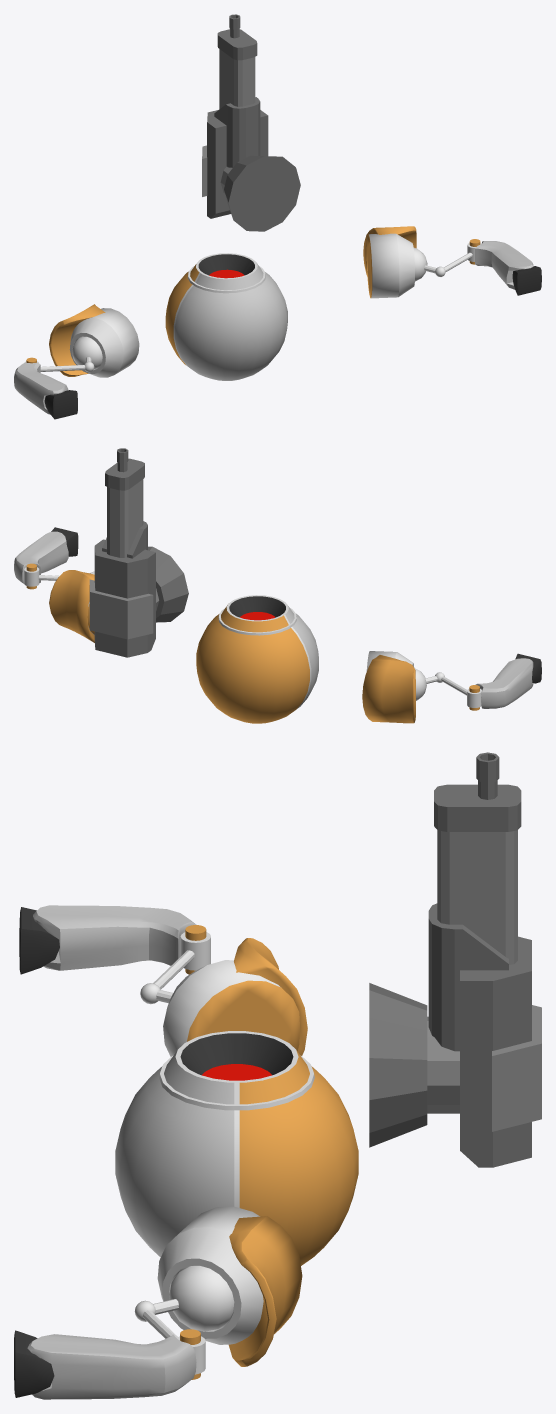
Rendered from FİNAL yürüyen robot.fbx.
3 views of the same model, one above another, from view 1: azimuth 30°, elevation 25°; view 2: azimuth 150°, elevation 25°; view 3: azimuth 270°, elevation 25° (orthographic). The views are drawn at different scales.
Visible parts, largest first — view 1: GUN2, HEAD2, LEG_l, LEG_R; view 2: HEAD2, GUN2, LEG_l, LEG_R; view 3: GUN2, HEAD2, LEG_R, LEG_l.
Boxes of the visible parts, x1,y1,x2,y2 form: GUN2: (202,14,300,231); HEAD2: (165,253,287,380); LEG_l: (14,304,139,419); LEG_R: (363,226,541,298); HEAD2: (196,595,318,723); GUN2: (89,448,188,657); LEG_l: (362,651,541,723); LEG_R: (14,527,94,642); GUN2: (369,752,541,1167); HEAD2: (115,1031,358,1265); LEG_R: (14,1206,302,1399); LEG_l: (19,905,307,1056).
Size of the model in its own units: 218 by 125 by 102.
